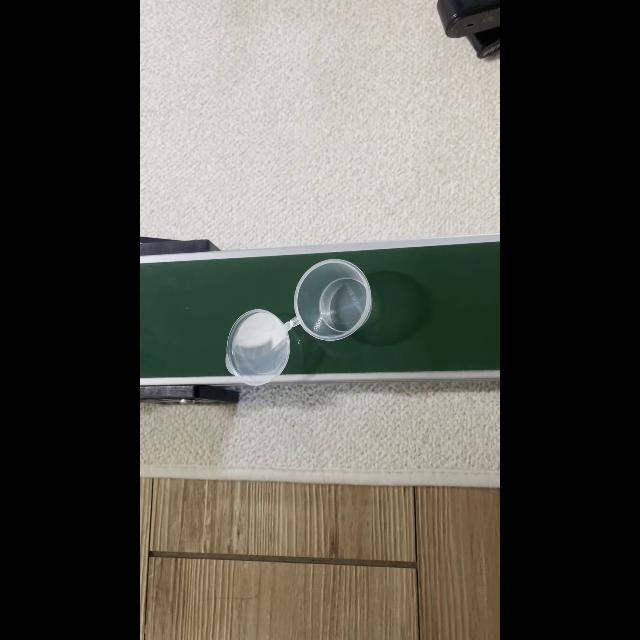clean: (224, 259, 372, 385)
